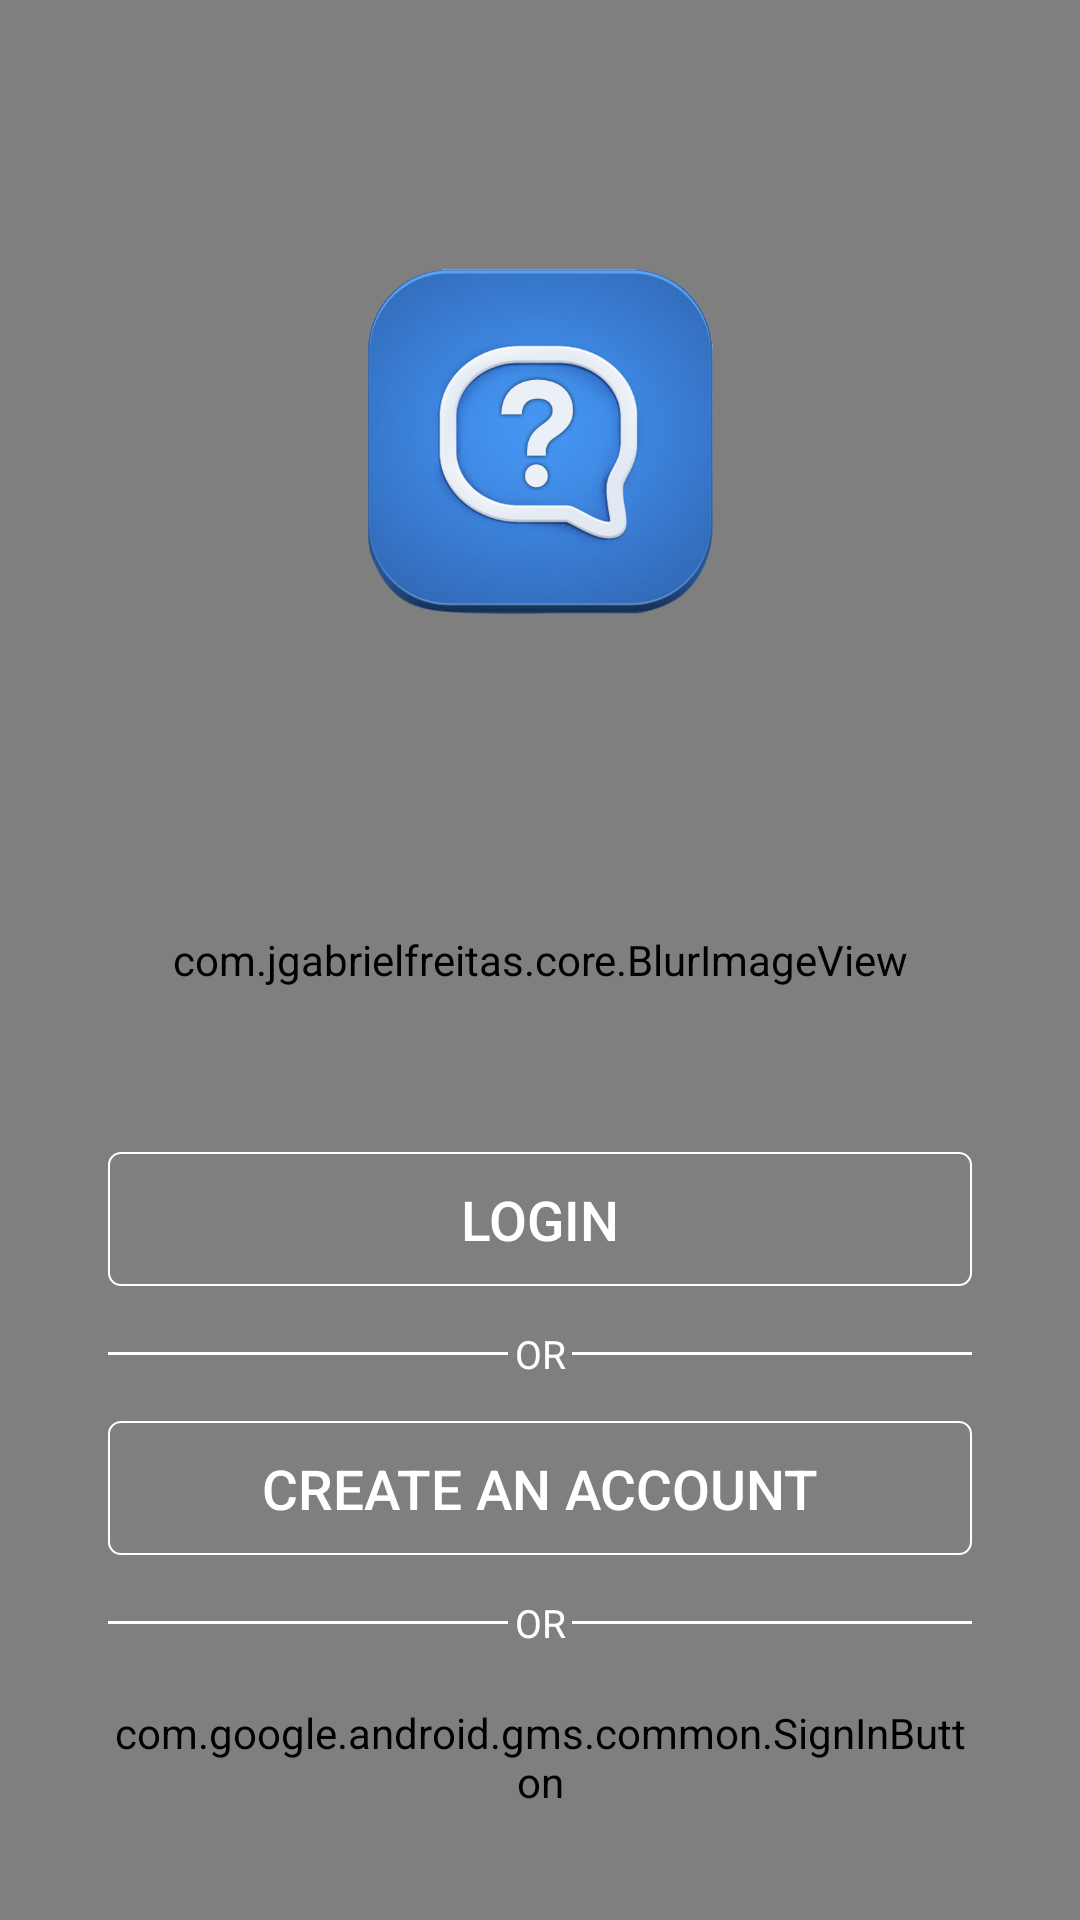

Named icons in this screenshot (1080px x 1920px) and their bounding boxes, Rect(x1, y1, x2, y2):
app: Rect(368, 269, 713, 614)
